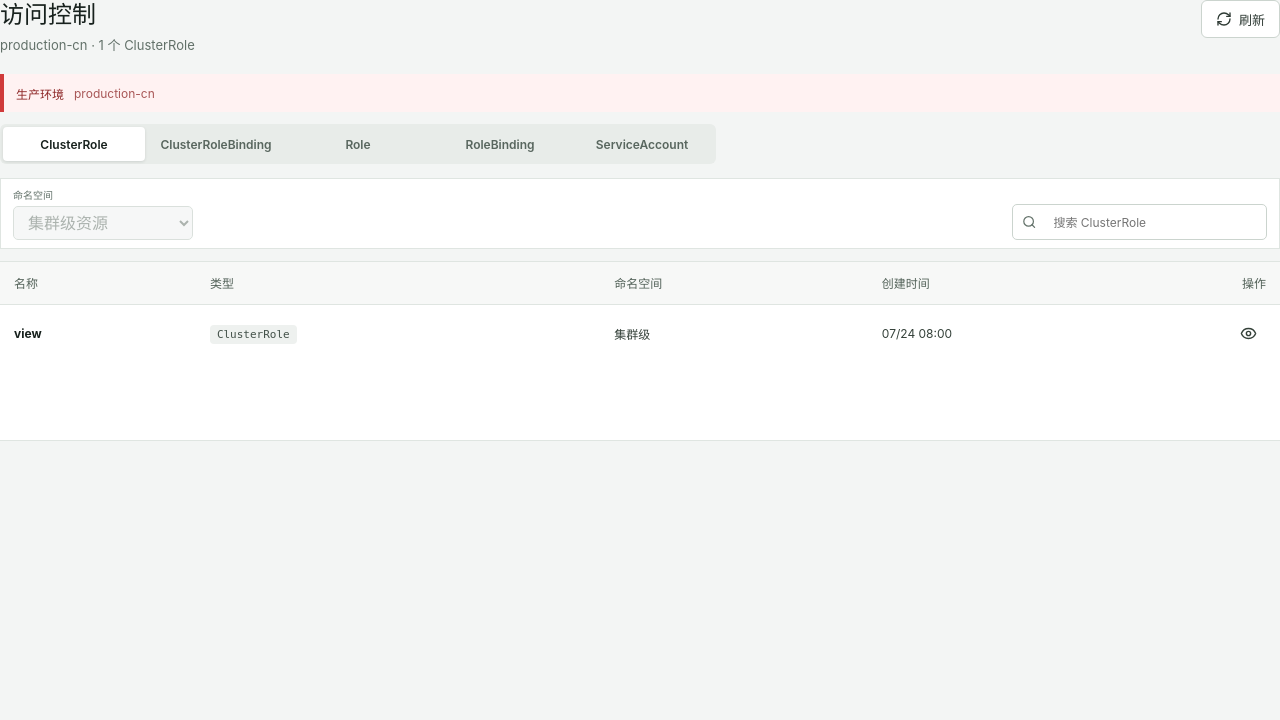
AccessPage › aborts an active detail request when the dialog closes
Check: the text "view" is shown, box [14, 326, 42, 341]
Click the button named "查看 view".
click(1248, 334)  # box [1230, 316, 1266, 352]
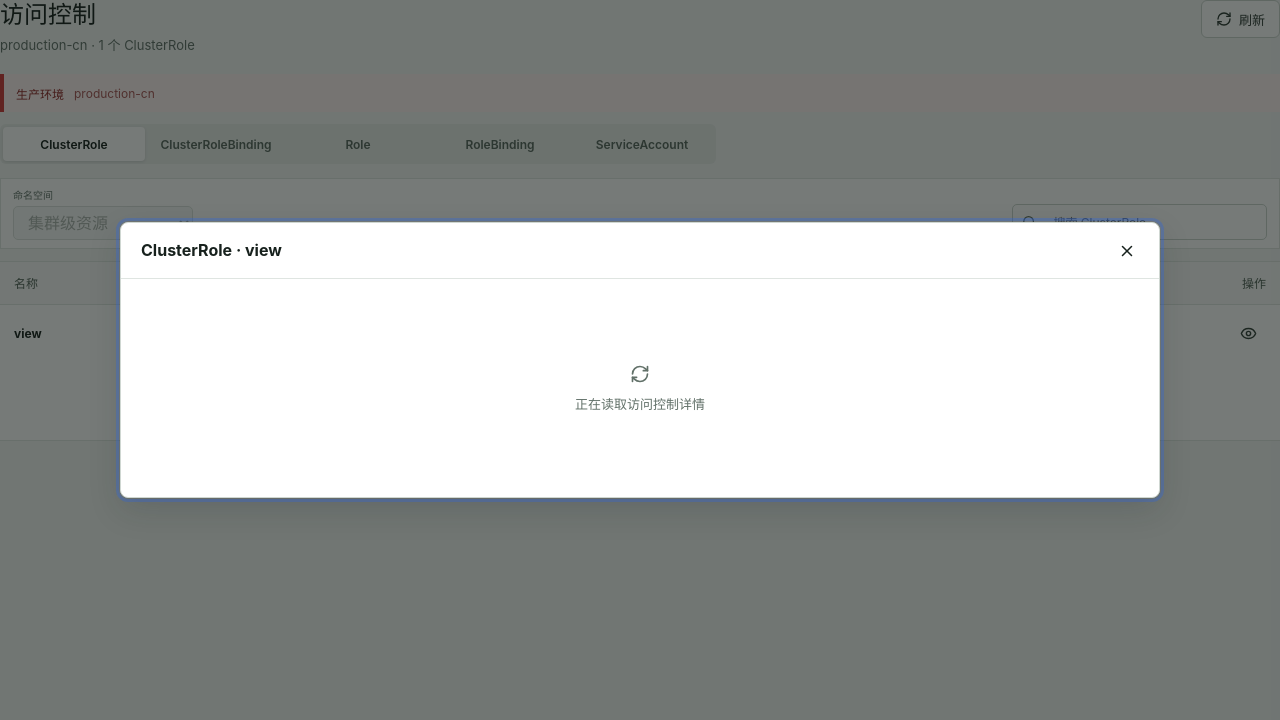
Click the button named "关闭".
click(1127, 250)  # box [1109, 232, 1145, 268]
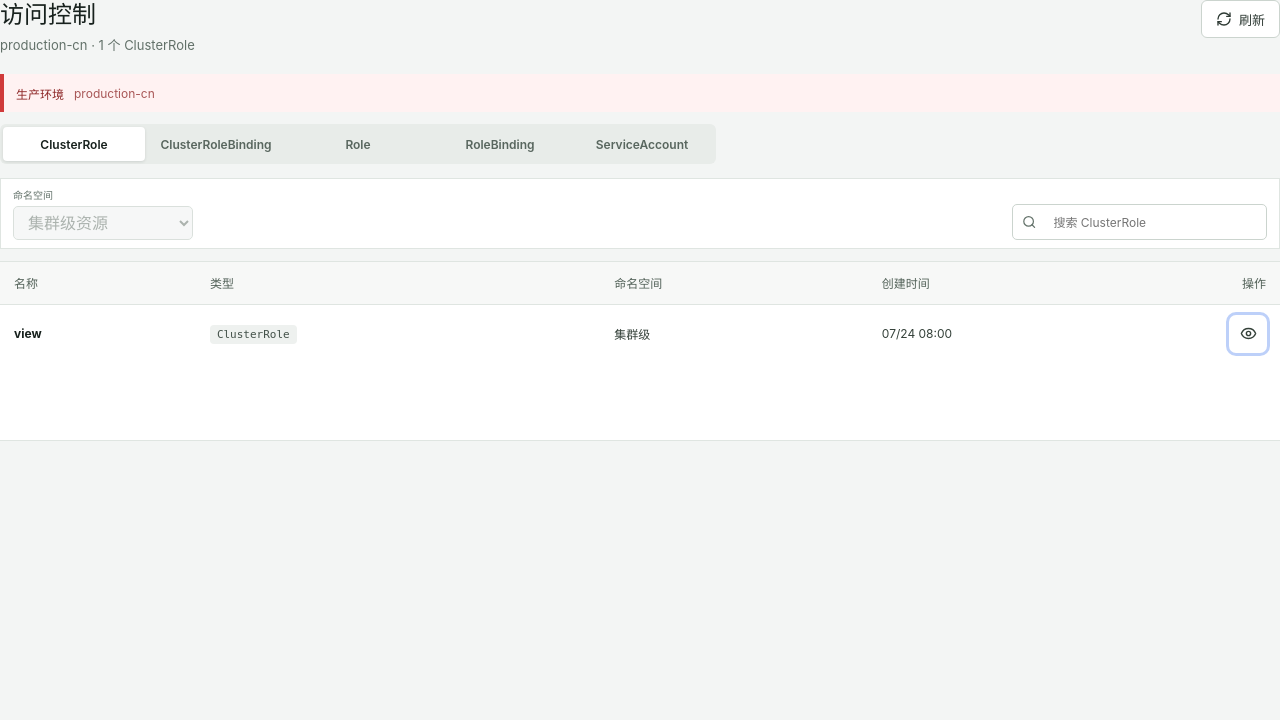
Check: the heading "ClusterRole · view" is gone
